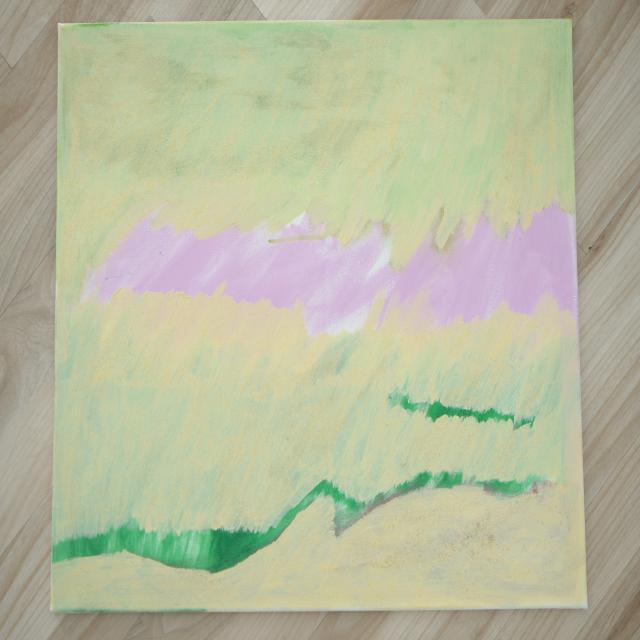painting: (52, 20, 586, 611)
